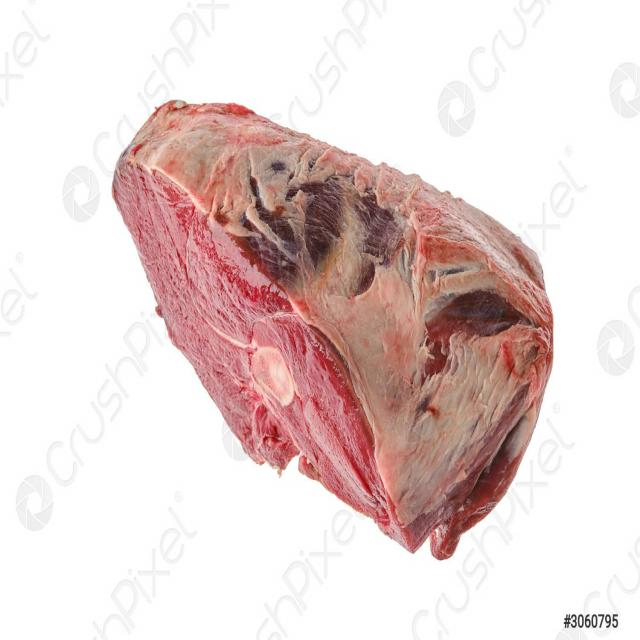beef: (148, 77, 556, 558)
